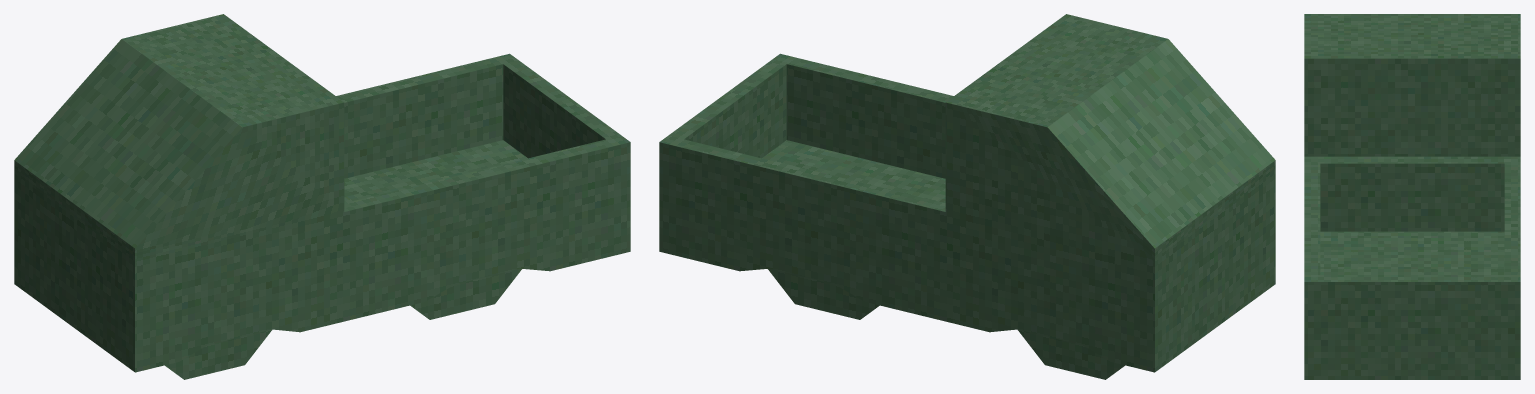
The model's file is TruckBase.fbx.
The picture shows the model from 3 angles, left to right: view 1: azimuth 30°, elevation 25°; view 2: azimuth 150°, elevation 25°; view 3: azimuth 270°, elevation 25°; orthographic projection. The views are drawn at different scales.
Visible parts, largest first — view 1: TruckBase; view 2: TruckBase; view 3: TruckBase.
Boxes of the visible parts, bbox=[...] form: TruckBase: bbox=[14, 14, 630, 379]; TruckBase: bbox=[659, 14, 1275, 379]; TruckBase: bbox=[1304, 14, 1520, 379].
Size of the model in its own units: 294 by 149 by 124.
